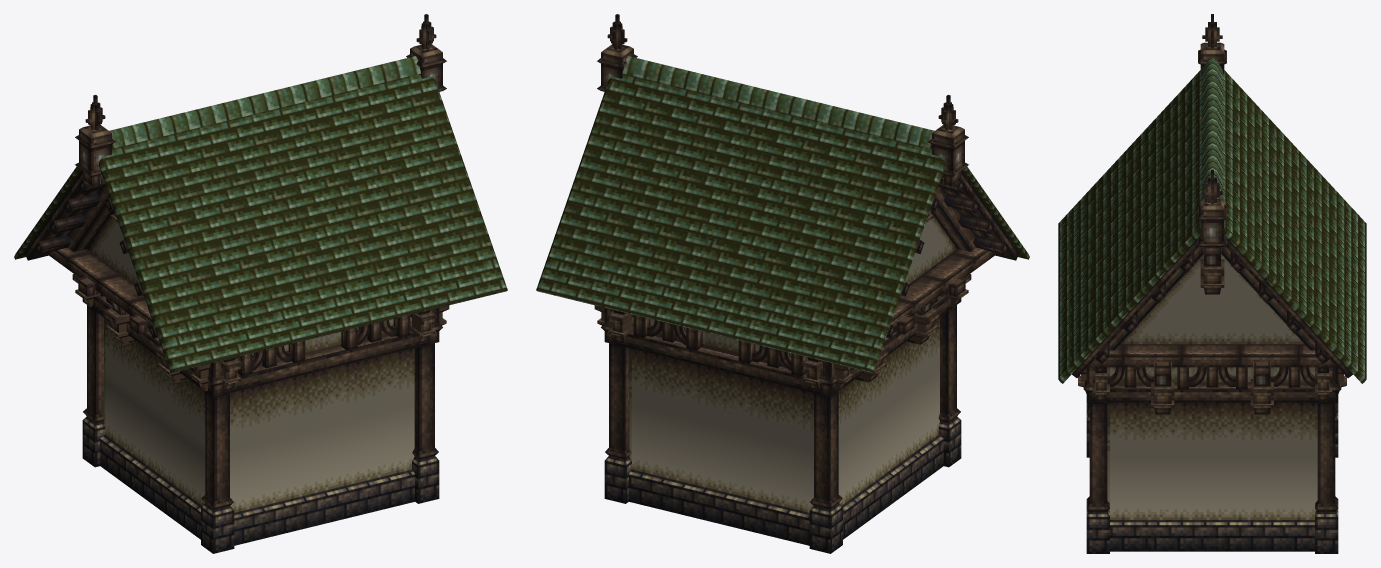
Rendered from EnvBdgMD_City_C_Outdoor_4W4D_A.FBX.
3 views of the same model, side by side, from view 1: azimuth 30°, elevation 25°; view 2: azimuth 150°, elevation 25°; view 3: azimuth 270°, elevation 25° (orthographic). The views are drawn at different scales.
Parts seen in each view (by area): view 1: EnvBdgMD_City_C_Outdoor_4W4D_A; view 2: EnvBdgMD_City_C_Outdoor_4W4D_A; view 3: EnvBdgMD_City_C_Outdoor_4W4D_A.
Boxes of the visible parts, x1,y1,x2,y2 form: EnvBdgMD_City_C_Outdoor_4W4D_A: [14, 14, 507, 553]; EnvBdgMD_City_C_Outdoor_4W4D_A: [536, 14, 1029, 553]; EnvBdgMD_City_C_Outdoor_4W4D_A: [1058, 14, 1366, 553].
Bounding box in the file's own units: 680 × 770 × 527.
